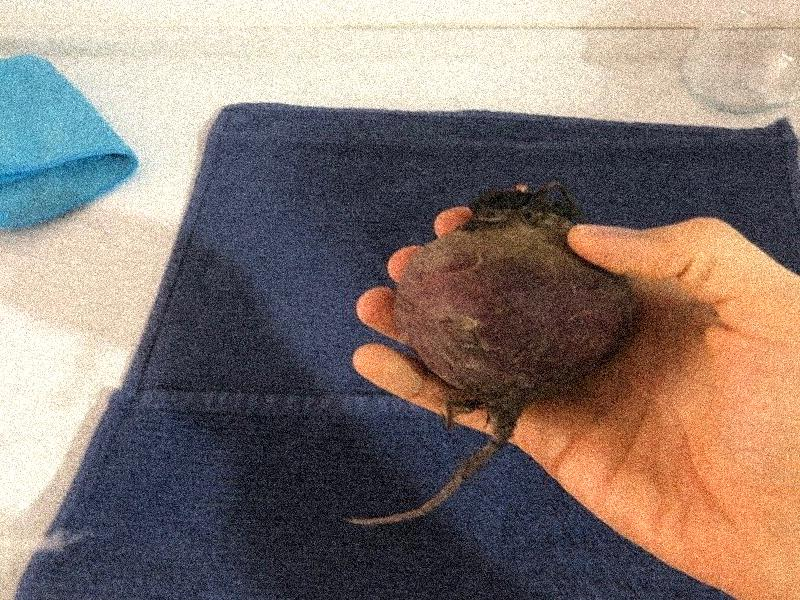Beet: (342, 184, 638, 525)
